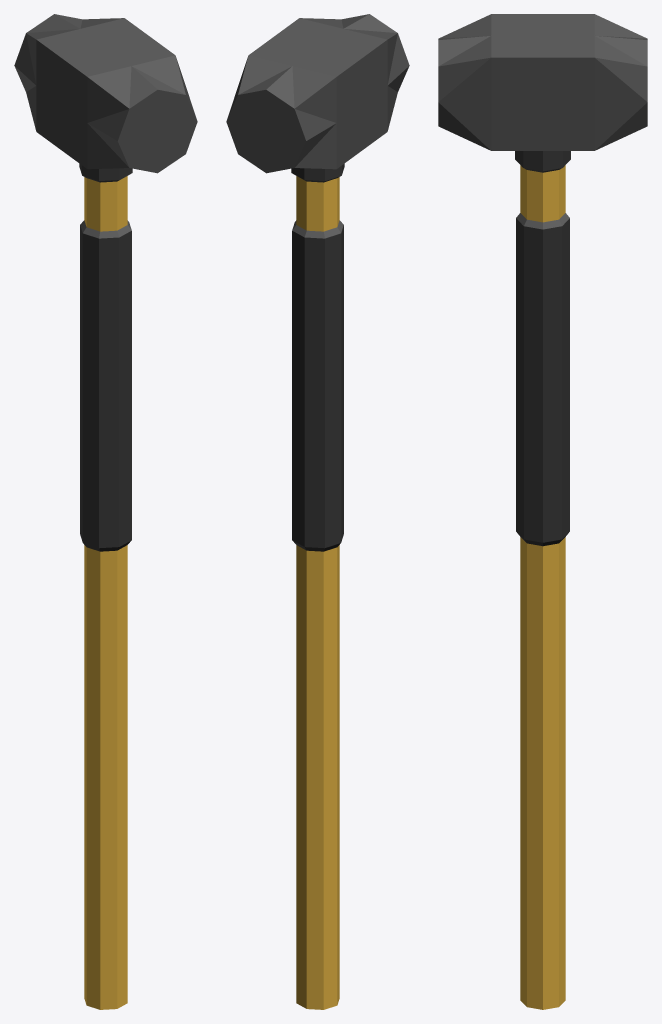
Rendered from sledgehammer_3.fbx.
3 renders of one model, left to right at view 1: azimuth 30°, elevation 25°; view 2: azimuth 150°, elevation 25°; view 3: azimuth 270°, elevation 25°, orthographic.
Parts seen in each view (by area): view 1: sledgehammer_3; view 2: sledgehammer_3; view 3: sledgehammer_3.
Part boxes in pixels (box(x1,y1,x2,y2)): sledgehammer_3: box(14, 14, 197, 1009); sledgehammer_3: box(226, 14, 409, 1009); sledgehammer_3: box(438, 14, 647, 1009).
Bounding box in the file's own units: 20.72 × 214 × 42.05.
Materials: 1 (1 with a texture image).
